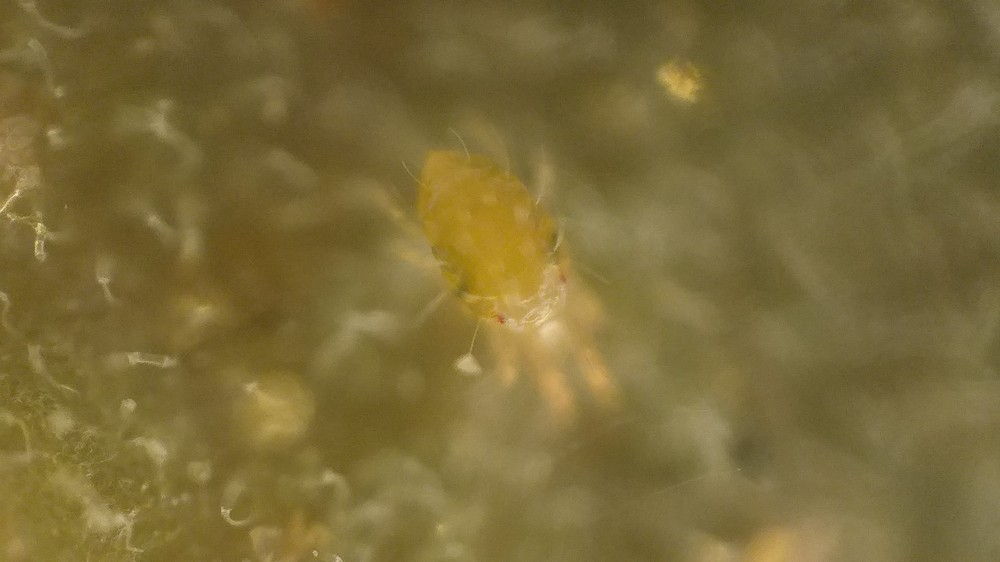Aracnido Rojo: (364, 117, 691, 443)
